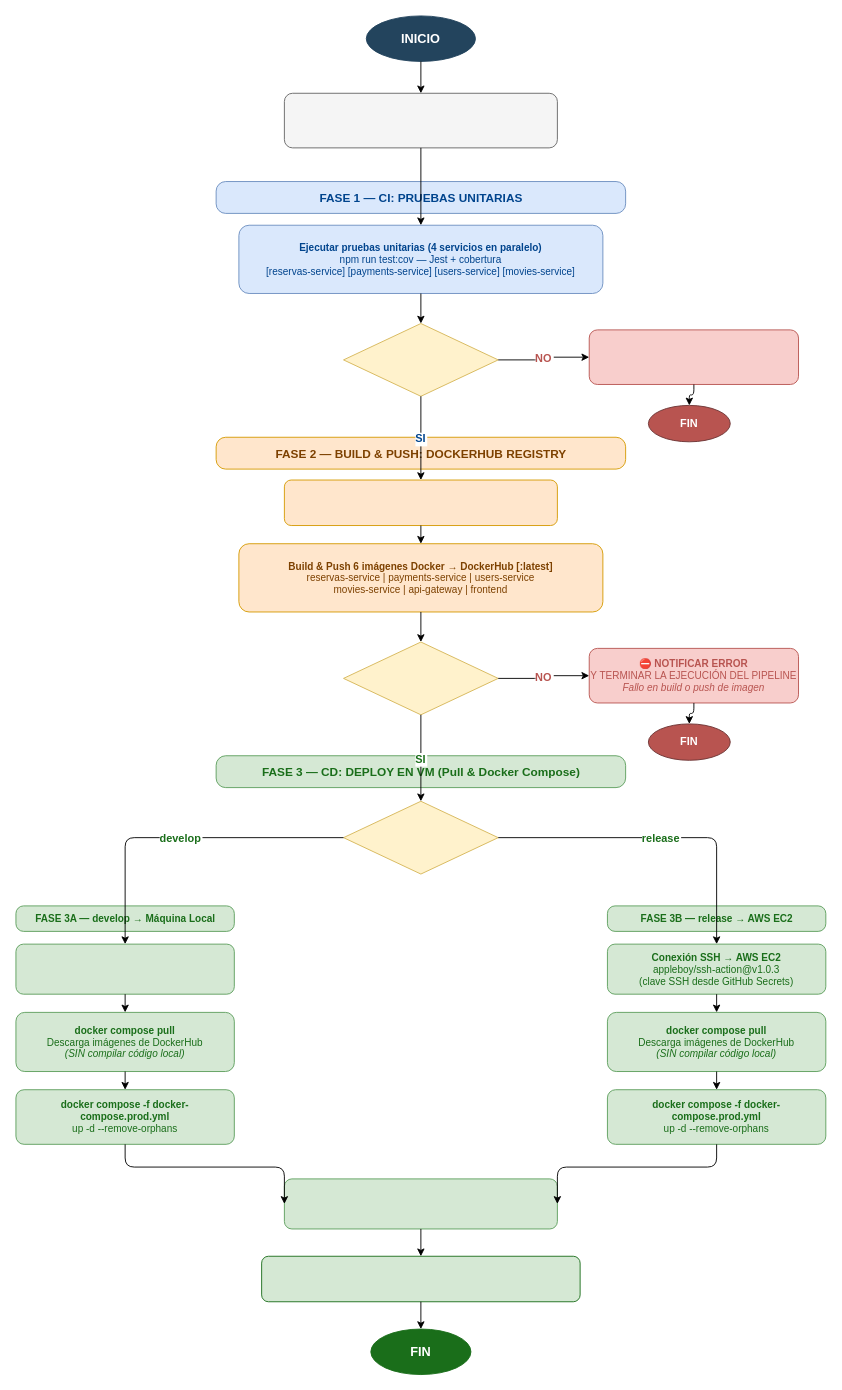
This 842x1390 diagram has some shape labels left out. The centre of each missing label's shape, as x and y in pixels:
"docker image prune -f Limpiar imágenes antiguas en el host" belongs at point 420,1203.
"Login a DockerHub docker/login-action@v3" belongs at point 420,502.
"Push / Merge detectado Ramas elegibles: develop | release" belongs at point 420,120.
"Self-hosted GitHub Actions Runner (computadora del integrante del grupo)" belongs at point 124,968.
"¿Build & Push exitoso?" belongs at point 420,678.
"¿Cobertura ≥ 75%?" belongs at point 420,359.
"¿Qué rama disparó el push?" belongs at point 420,837.
"⛔ NOTIFICAR ERROR Y TERMINAR LA EJECUCIÓN DEL PIPELINE Cobertura de tests < 75%" belongs at point 693,356.
"✅ Pipeline completado exitosamente" belongs at point 420,1278.
